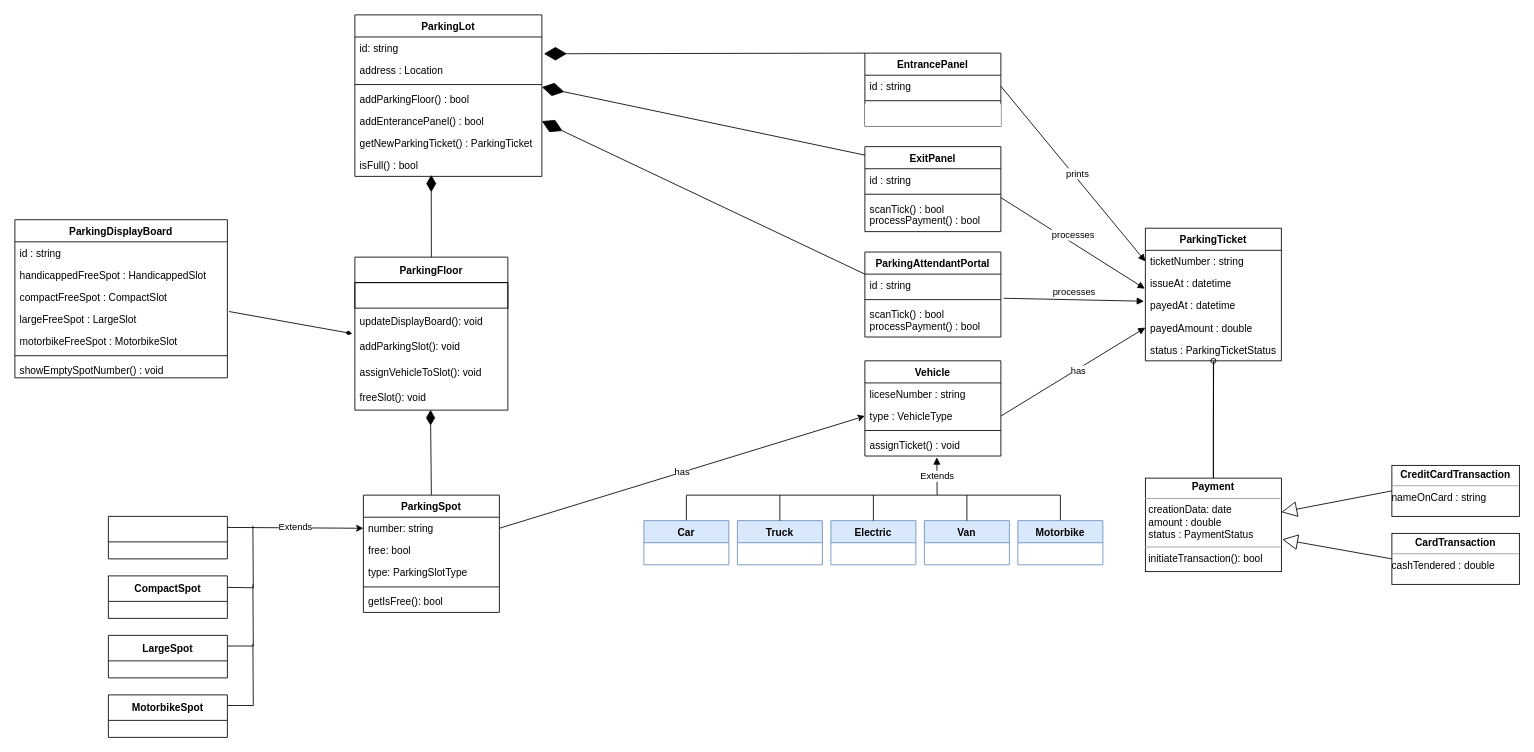
This 1534x752 diagram has some shape labels left out. The shapes that lost their labels are listed below. From the top down, each one's centre as x and y in pixels, then its label:
the point at 932,115: printTicket() : bool
the point at 431,295: name: string
the point at 167,537: HandicappedSpot
